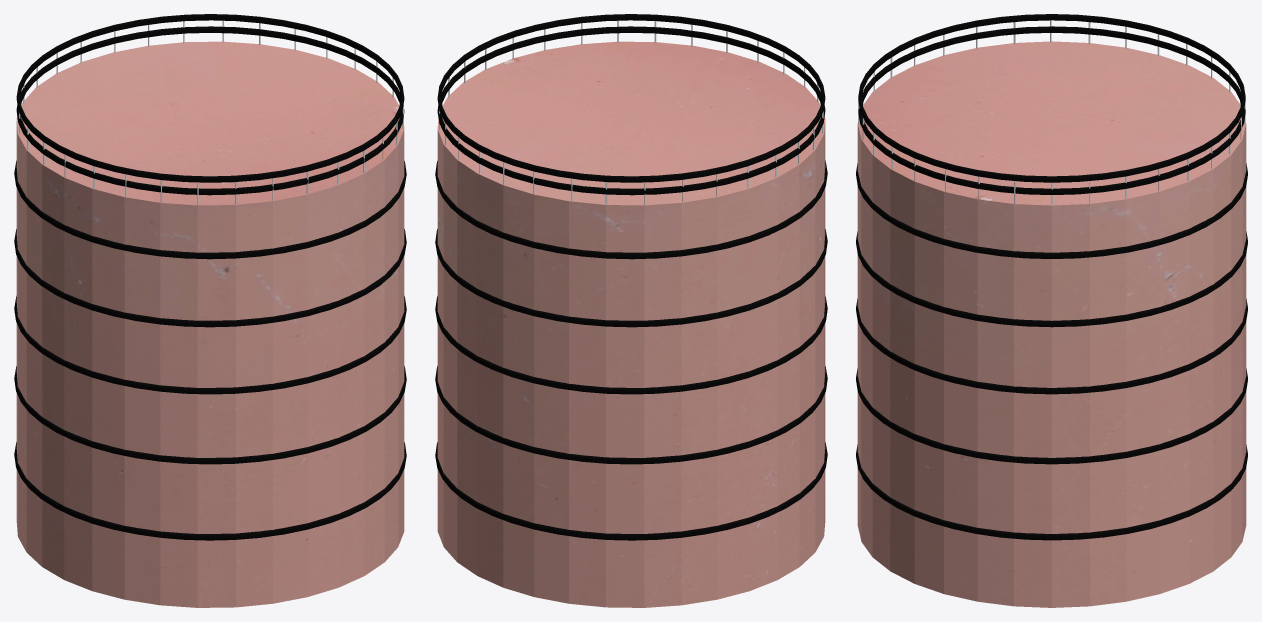
Rendered from Tank.gltf.
3 renders of one model, left to right at view 1: azimuth 30°, elevation 25°; view 2: azimuth 150°, elevation 25°; view 3: azimuth 270°, elevation 25°, orthographic.
Parts seen in each view (by area): view 1: Cylinder, Head Rail, Head Rail.001, Top Rail, Bottom Rail, Mid Rail, Mid Rail.001, Bottom Rail.001; view 2: Cylinder, Head Rail, Head Rail.001, Top Rail, Bottom Rail, Mid Rail, Mid Rail.001, Bottom Rail.001; view 3: Cylinder, Head Rail, Head Rail.001, Bottom Rail, Top Rail, Mid Rail, Bottom Rail.001, Mid Rail.001.
Part boxes in pixels (bbox=[...]): Cylinder: bbox=[16, 41, 404, 607]; Head Rail: bbox=[16, 14, 404, 182]; Head Rail.001: bbox=[16, 26, 404, 195]; Top Rail: bbox=[14, 160, 406, 259]; Bottom Rail: bbox=[14, 442, 406, 540]; Mid Rail: bbox=[14, 229, 406, 327]; Mid Rail.001: bbox=[14, 296, 406, 394]; Bottom Rail.001: bbox=[14, 366, 406, 464]; Cylinder: bbox=[437, 41, 825, 607]; Head Rail: bbox=[437, 14, 825, 182]; Head Rail.001: bbox=[437, 26, 825, 195]; Top Rail: bbox=[435, 160, 827, 259]; Bottom Rail: bbox=[435, 442, 827, 540]; Mid Rail: bbox=[435, 229, 827, 327]; Mid Rail.001: bbox=[435, 296, 827, 394]; Bottom Rail.001: bbox=[435, 366, 827, 464]; Cylinder: bbox=[857, 41, 1246, 607]; Head Rail: bbox=[858, 14, 1245, 182]; Head Rail.001: bbox=[858, 26, 1245, 194]; Bottom Rail: bbox=[856, 444, 1247, 540]; Top Rail: bbox=[856, 163, 1247, 258]; Mid Rail: bbox=[856, 231, 1247, 327]; Bottom Rail.001: bbox=[856, 368, 1247, 464]; Mid Rail.001: bbox=[856, 298, 1247, 394].
Size of the model in its own units: 3.53 by 4.28 by 3.53.
2 materials, 1 textured.
